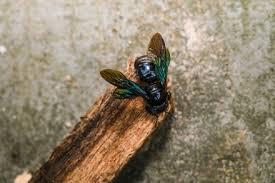Xylocopa: (100, 32, 179, 118)
